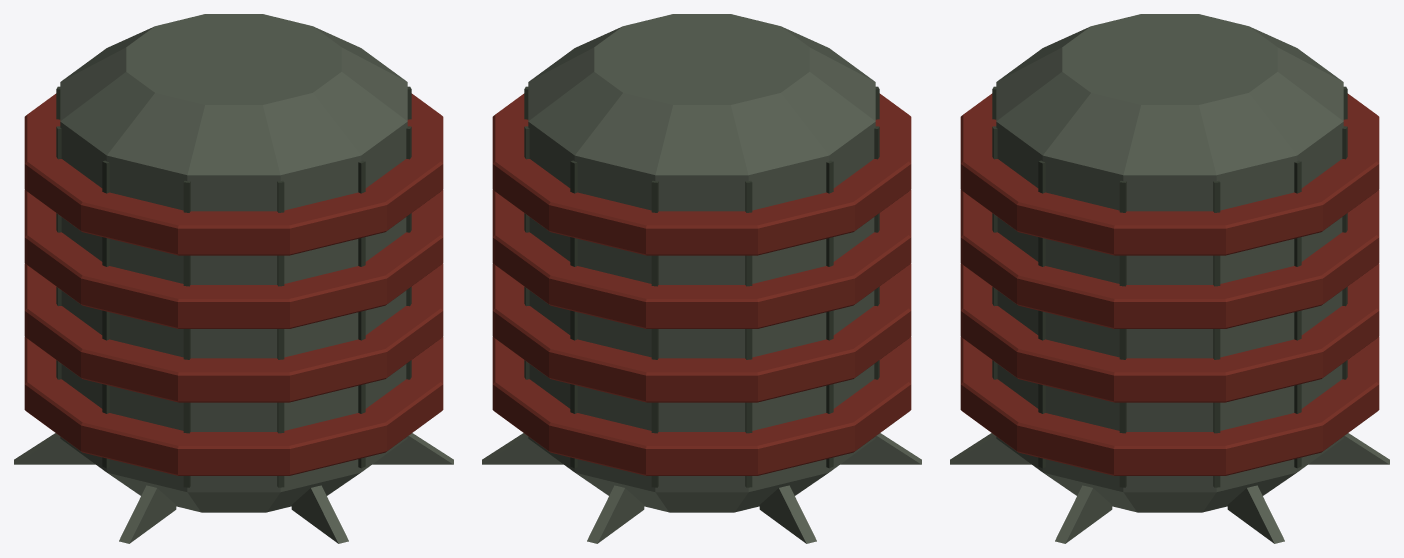
File: s600_vessel.obj
The picture shows the model from 3 angles, left to right: view 1: azimuth 30°, elevation 25°; view 2: azimuth 150°, elevation 25°; view 3: azimuth 270°, elevation 25°; orthographic projection.
Parts seen in each view (by area): view 1: s600_vessel; view 2: s600_vessel; view 3: s600_vessel.
Part boxes in pixels (left/top/right/bottom): s600_vessel: left=14, top=14, right=453, bottom=543; s600_vessel: left=482, top=14, right=921, bottom=543; s600_vessel: left=950, top=14, right=1389, bottom=543.
Bounding box in the file's own units: 1.72 × 1.82 × 1.81.
